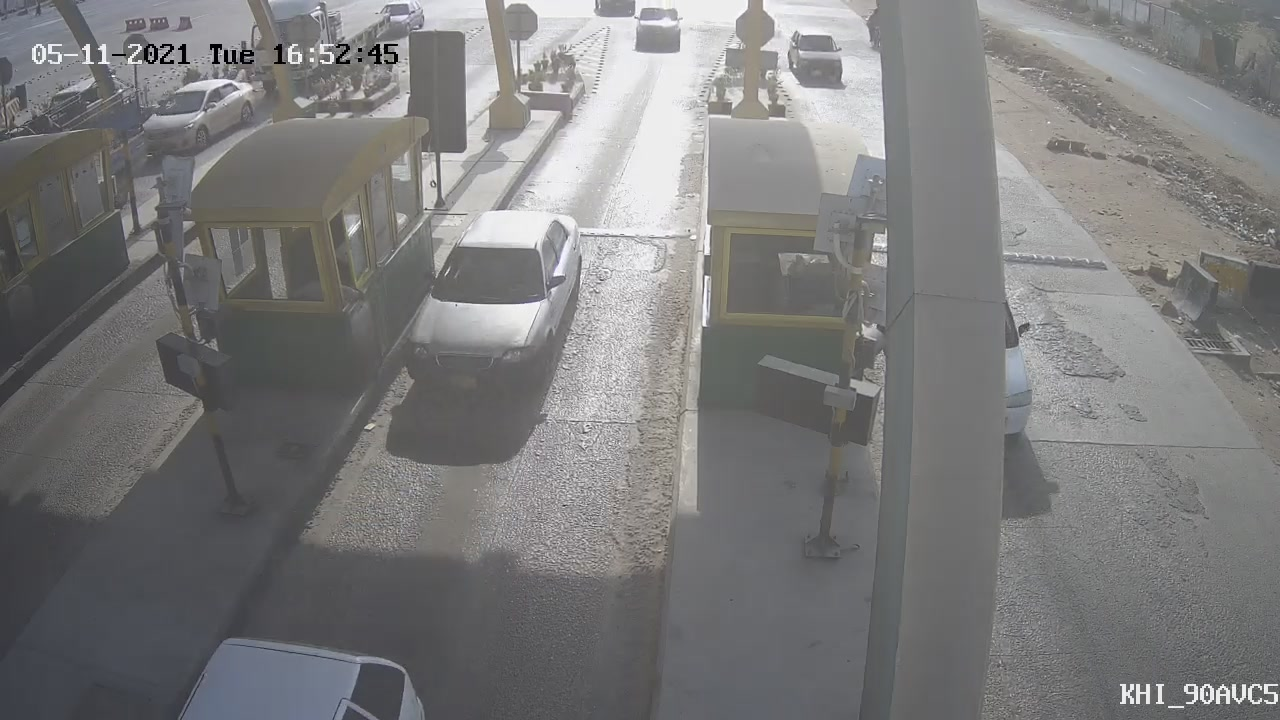F1: (383, 192, 605, 421)
